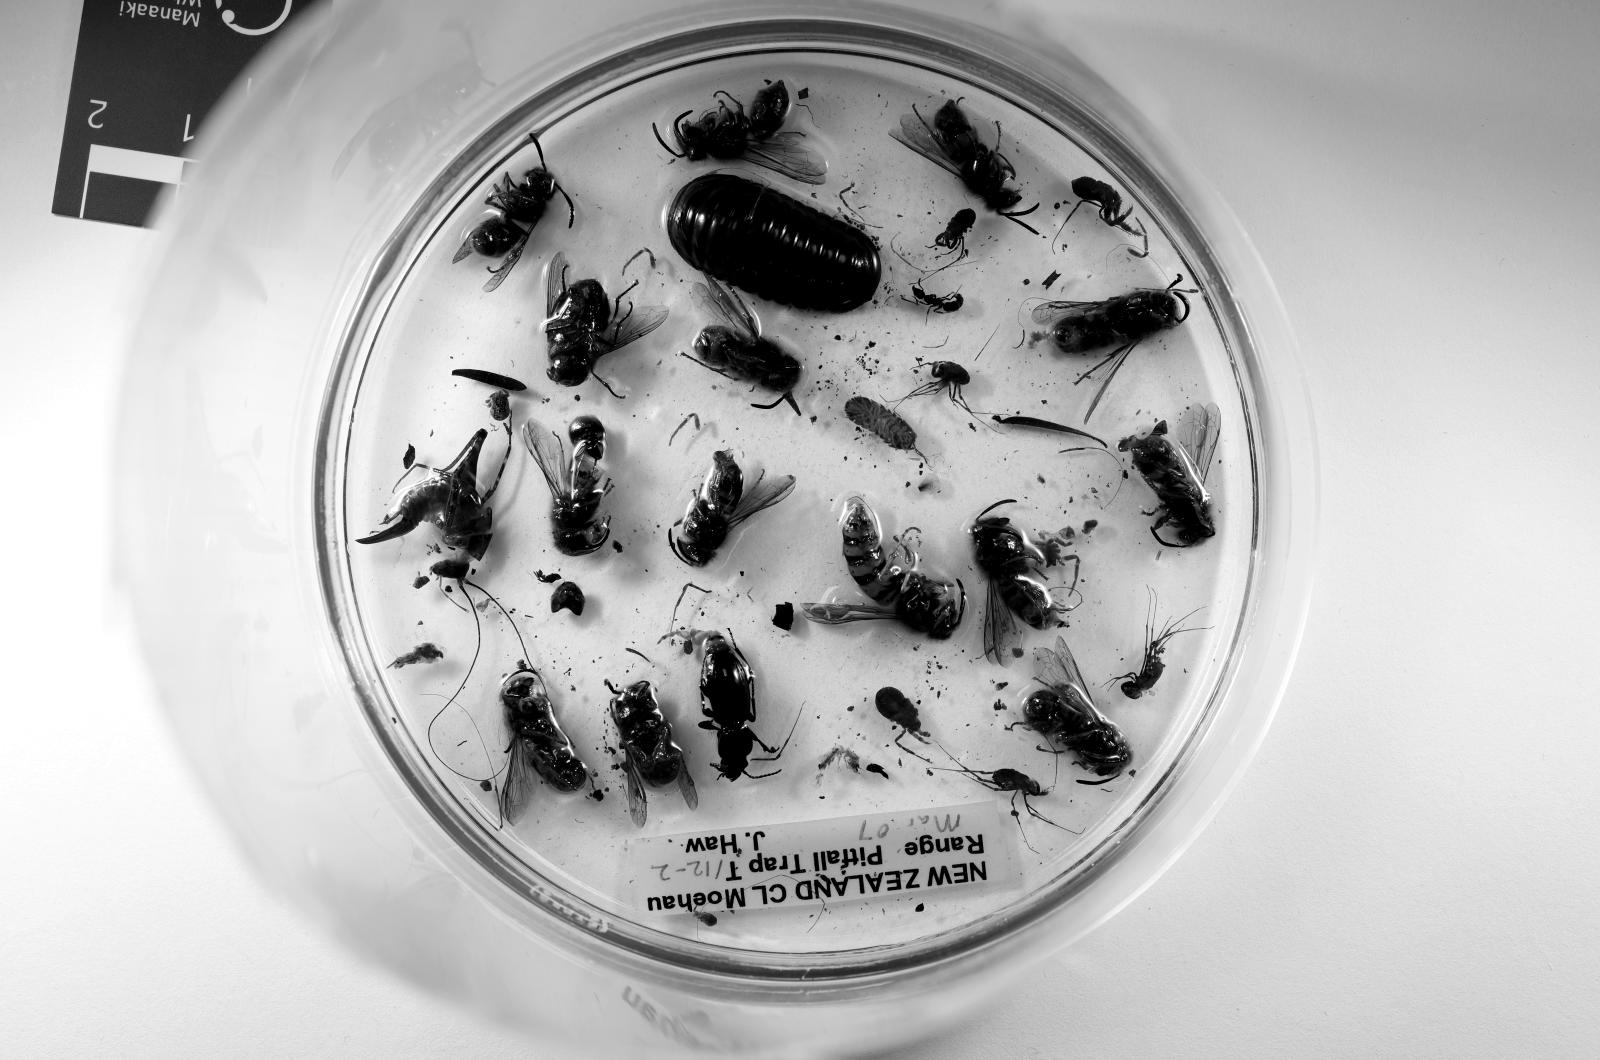carabidae: (700, 634, 772, 783)
coleoptera: (569, 416, 607, 459)
diptera: (544, 254, 669, 388)
formicidae: (900, 286, 963, 314)
isopoda: (666, 174, 881, 314), (843, 397, 915, 451)
opiliones: (1115, 590, 1185, 699), (432, 552, 506, 625), (959, 767, 1047, 820), (1071, 177, 1141, 237), (909, 360, 972, 413), (875, 686, 928, 742), (934, 208, 974, 254), (487, 392, 510, 419)
orthoptera: (356, 428, 500, 558)
vespidae: (803, 497, 966, 640), (1031, 283, 1191, 419), (453, 134, 575, 292), (890, 99, 1037, 224), (653, 80, 828, 183), (972, 500, 1069, 667), (1022, 636, 1132, 780), (1119, 403, 1222, 547), (500, 661, 590, 823), (669, 451, 793, 568), (691, 277, 799, 401), (607, 680, 697, 826), (525, 419, 613, 556), (1022, 224, 1037, 233)
